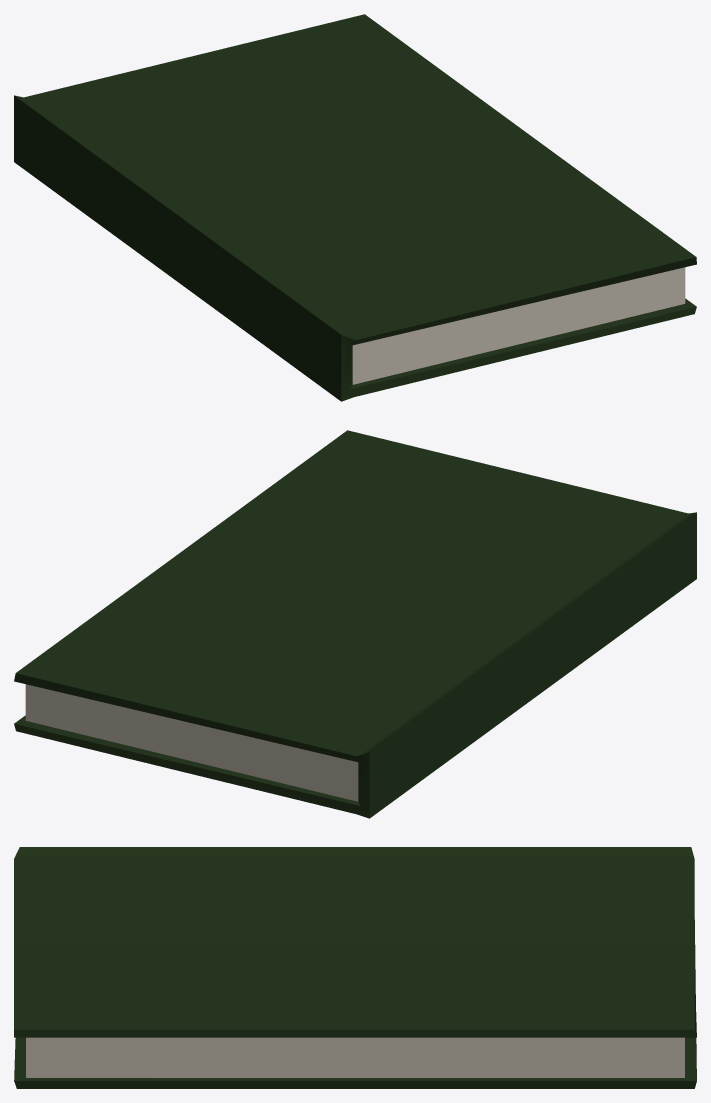
The model's file is Book_2.fbx.
3 renders of one model, top to bottom at view 1: azimuth 30°, elevation 25°; view 2: azimuth 150°, elevation 25°; view 3: azimuth 270°, elevation 25°, orthographic. The views are drawn at different scales.
Visible parts, largest first — view 1: pCube1; view 2: pCube1; view 3: pCube1.
Part boxes in pixels (x1,y1,x2,y2): pCube1: (14,14,696,401); pCube1: (14,430,696,818); pCube1: (14,847,696,1088).
Size of the model in its own units: 1.06 by 0.1917 by 1.73.
Materials: 1 (1 with a texture image).
